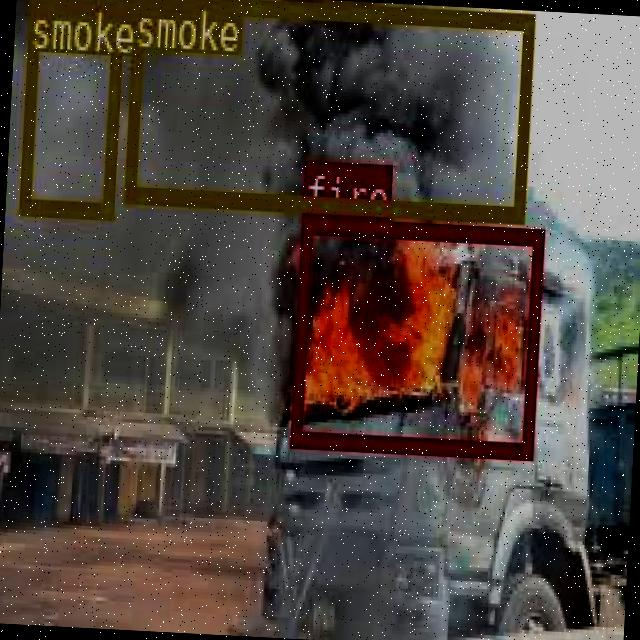fire: (288, 216, 543, 455)
smoke: (123, 0, 532, 220), (19, 0, 122, 215)
